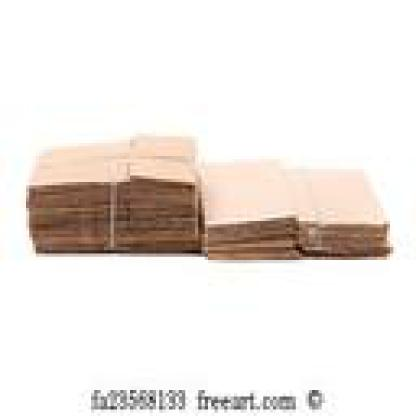CARDBOARD: (23, 134, 198, 250), (198, 159, 387, 257), (195, 162, 383, 224), (23, 133, 195, 182)
